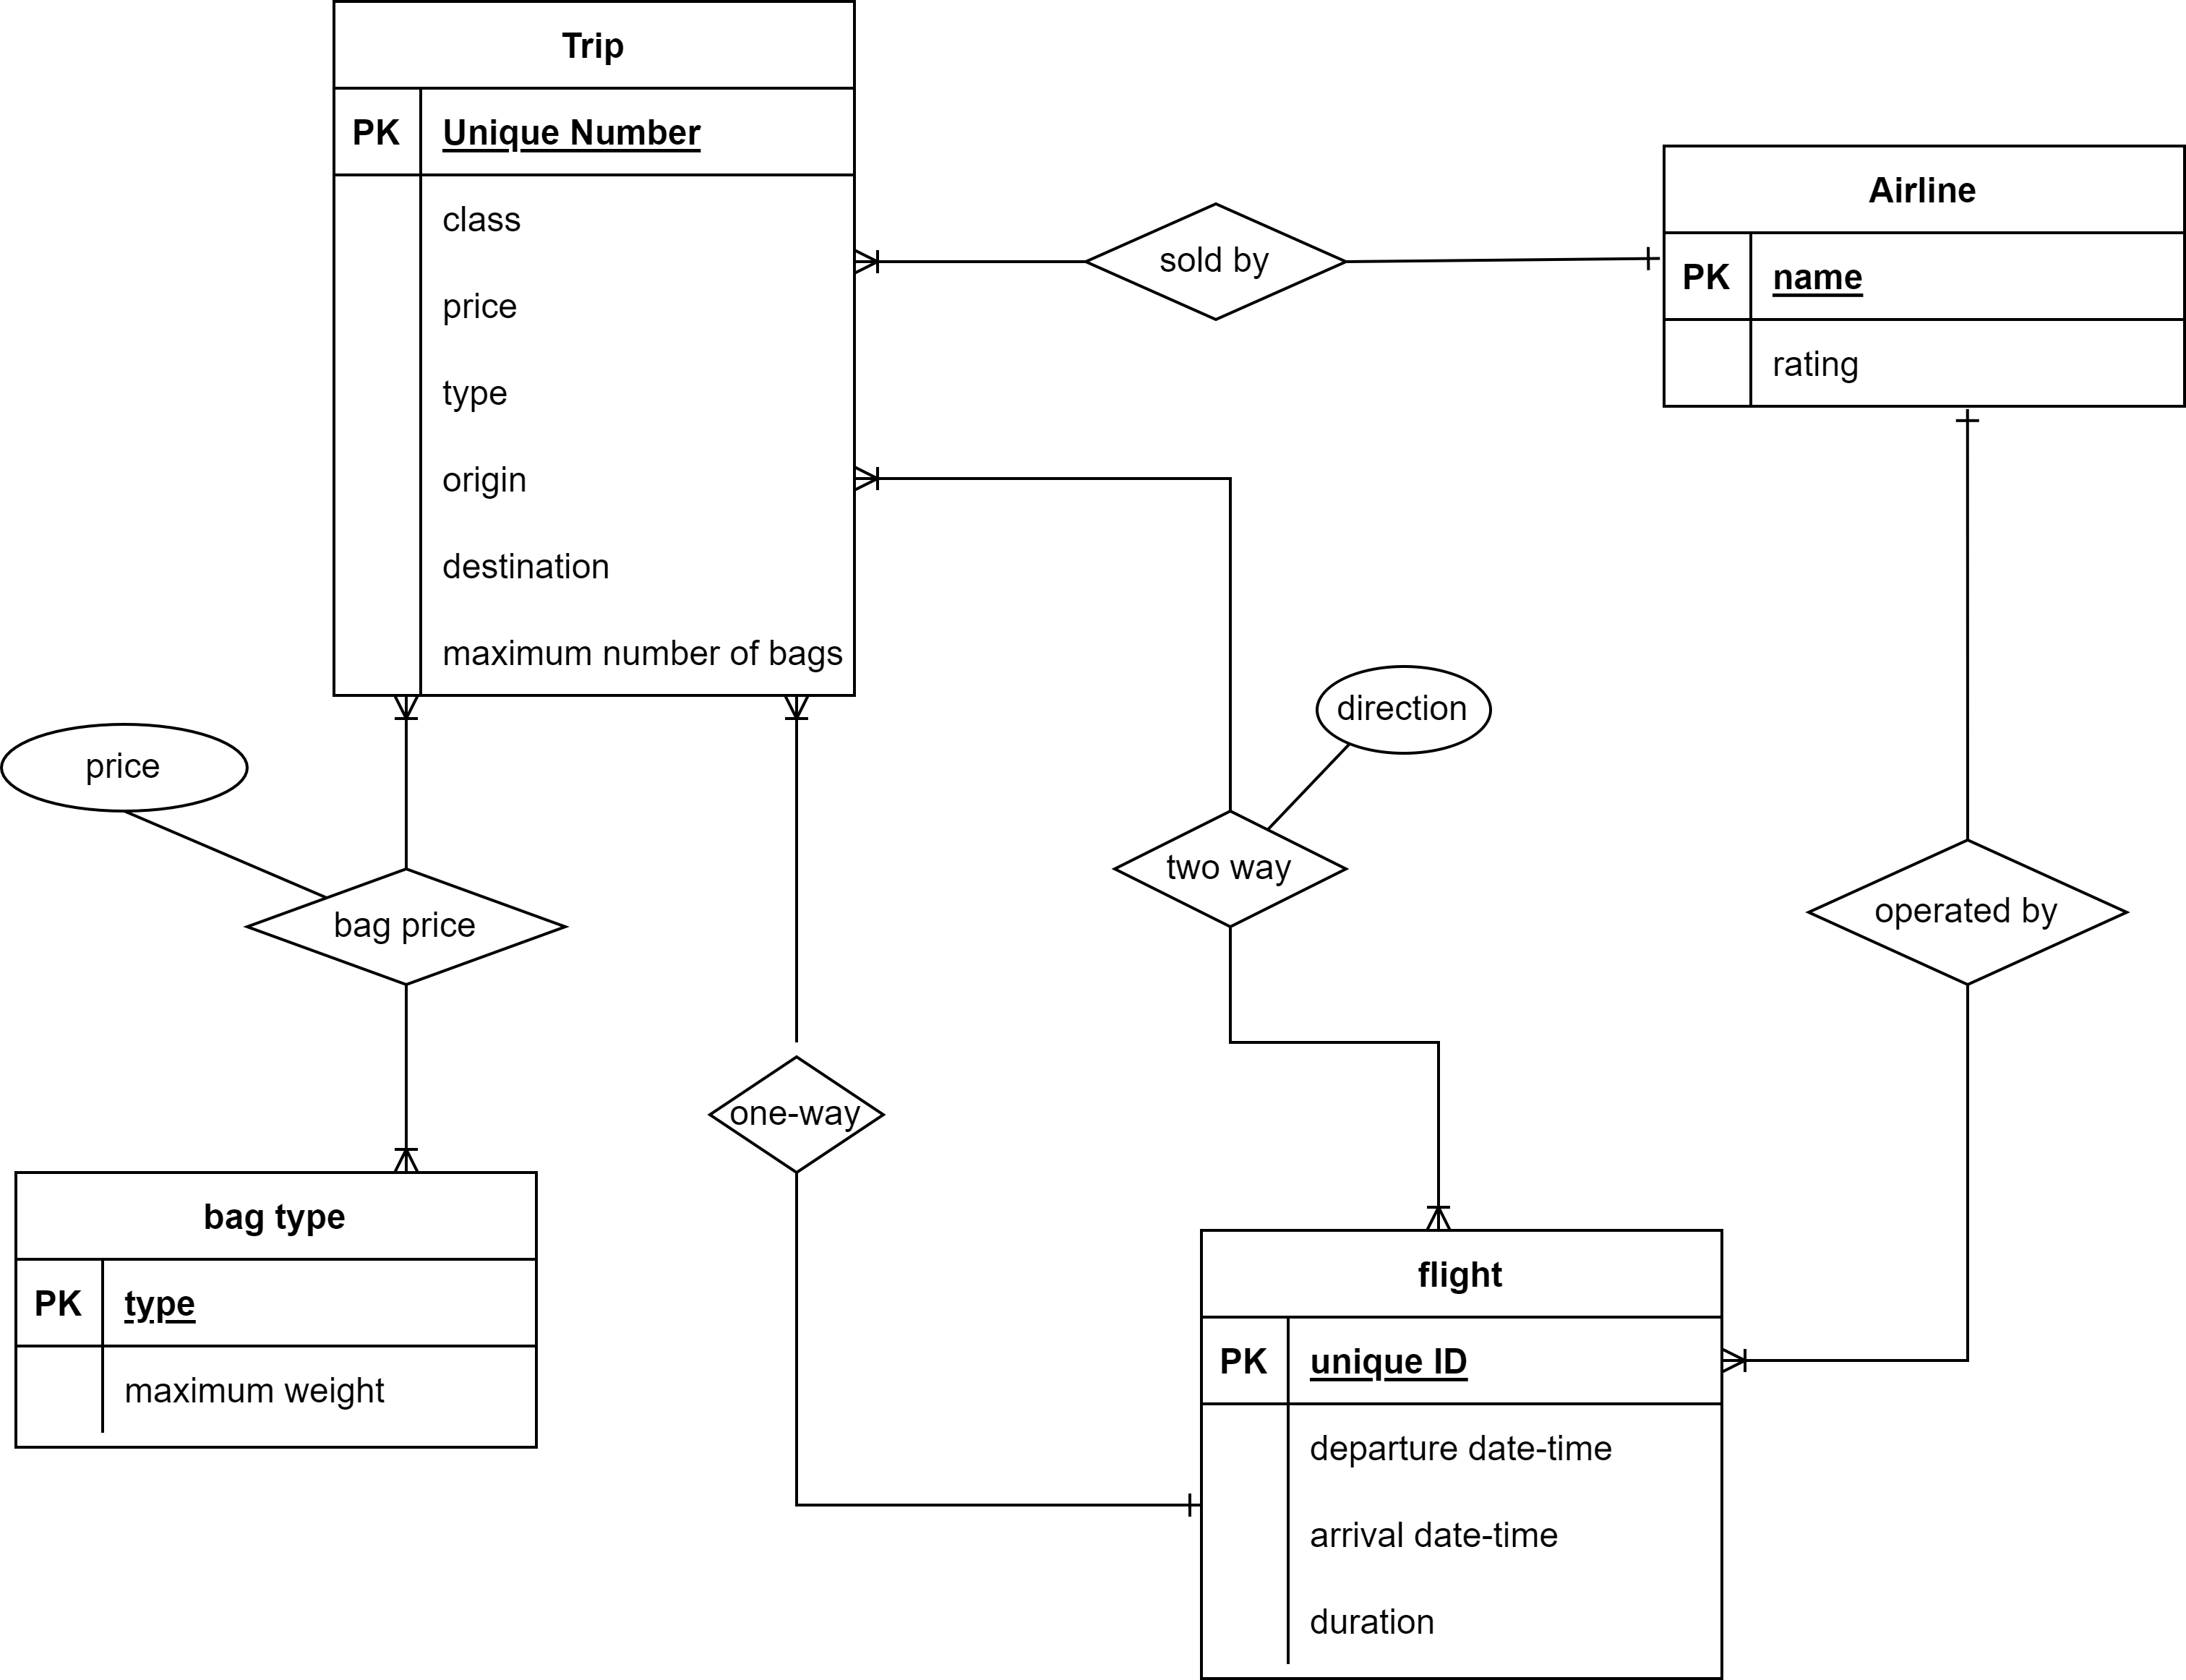entity: (335, 2, 856, 695), (1202, 1228, 1722, 1680), (12, 1170, 536, 1451), (1666, 148, 2182, 406)
many: (856, 468, 939, 498), (390, 694, 425, 762), (857, 249, 930, 279), (782, 697, 812, 766), (1720, 1348, 1793, 1376), (392, 1117, 420, 1177), (1427, 1177, 1452, 1230)
one: (1588, 244, 1666, 277), (1115, 1491, 1203, 1519), (1950, 408, 1985, 473)
rel: (1805, 840, 2130, 985), (245, 870, 565, 979), (1089, 205, 1344, 319), (1115, 815, 1346, 923), (709, 1054, 880, 1172)
rel_attr: (2, 720, 252, 812), (1318, 664, 1498, 757)
